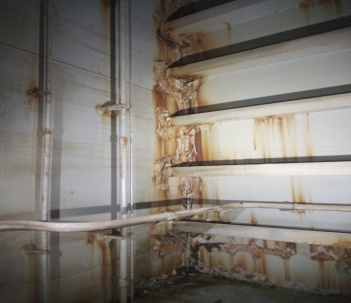corrosion: (140, 232, 201, 291), (242, 239, 299, 288), (250, 118, 317, 157), (153, 176, 206, 219), (151, 127, 206, 161), (86, 229, 111, 302), (156, 26, 212, 58), (153, 74, 204, 108), (202, 237, 235, 278), (309, 246, 335, 296), (22, 82, 44, 113), (287, 175, 311, 200)
